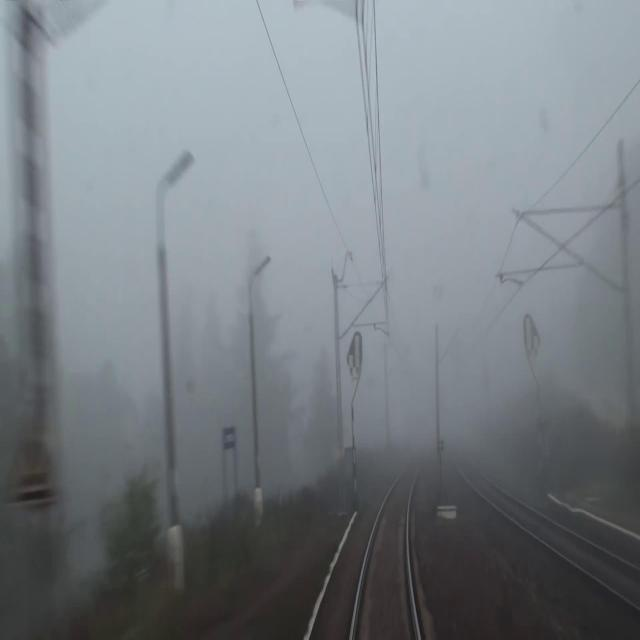rail-track: (462, 465, 640, 601), (354, 465, 418, 639)
